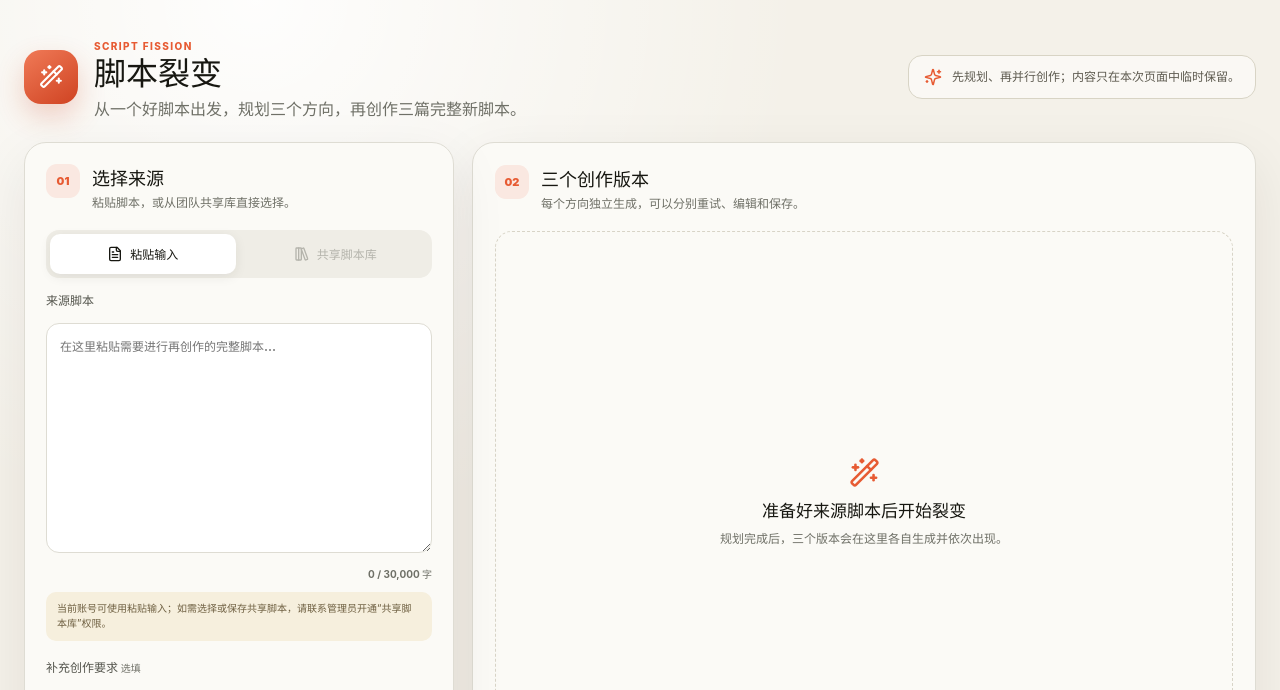
Test case: ScriptFissionPage › degrades to paste-only mode without script library permission
Expected: the button "共享脚本库" is disabled, [242,234,428,274]
Expected: the text "当前账号可使用粘贴输入；如需选择或保存共享脚本，请联系管理员开通“共享脚本库”权限。" is shown, [46,592,432,641]
Type "原始脚本" into the text box labelled "来源脚本" at {"x": 239, "y": 438}, box [46,323,432,553]
(page scrolled)
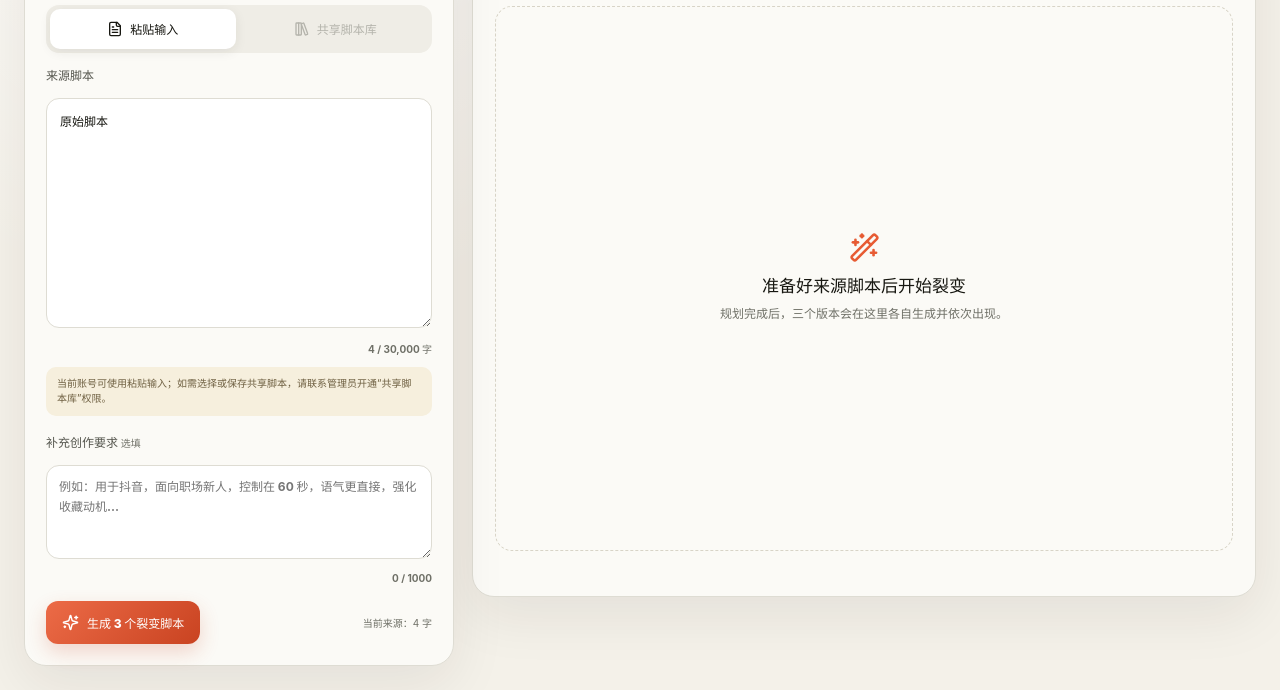
Click the button "生成 3 个裂变脚本" at {"x": 123, "y": 622}, box [46,601,200,644]
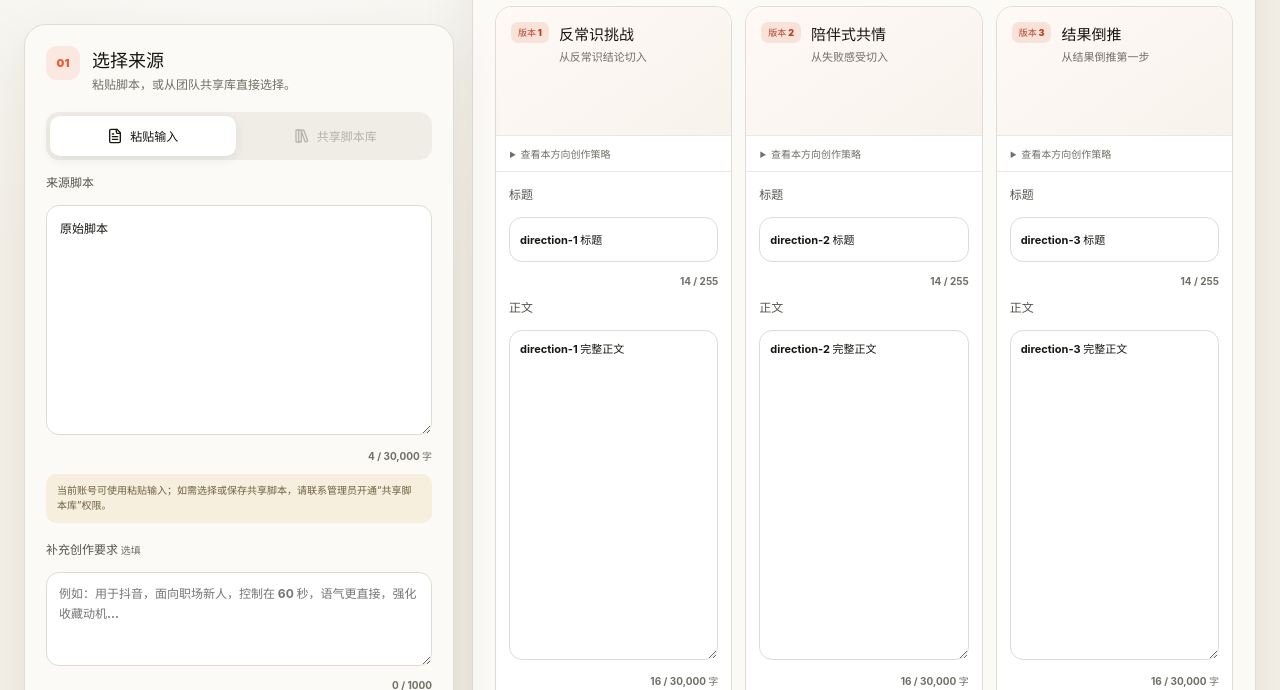
Expected: the field named "版本 1 标题" is shown, [509,217,718,262]
